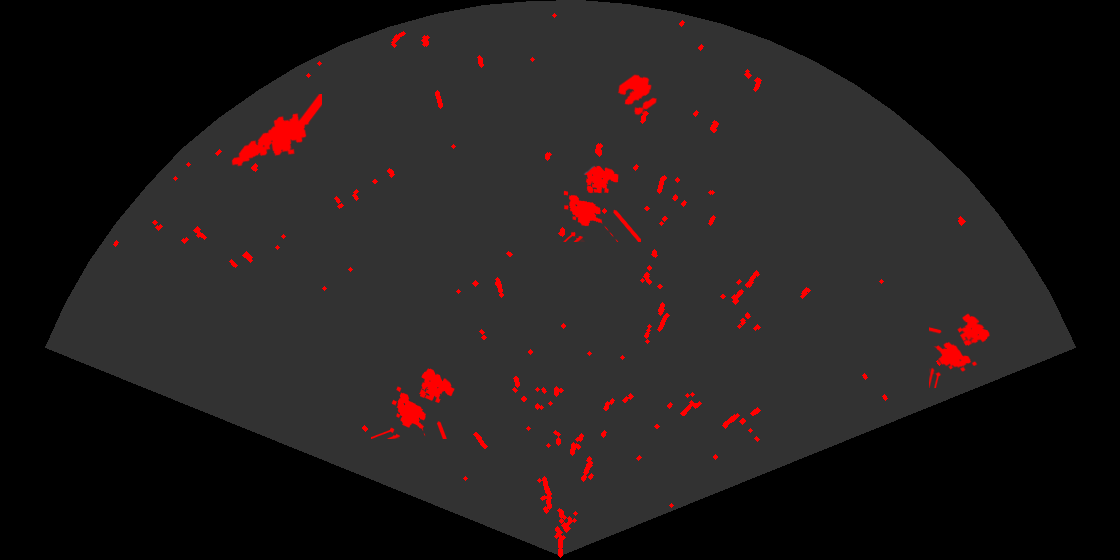ball: (616, 73, 659, 117)
cage: (562, 164, 641, 242), (371, 367, 456, 439), (929, 312, 991, 388)
frogman: (230, 94, 322, 168)
